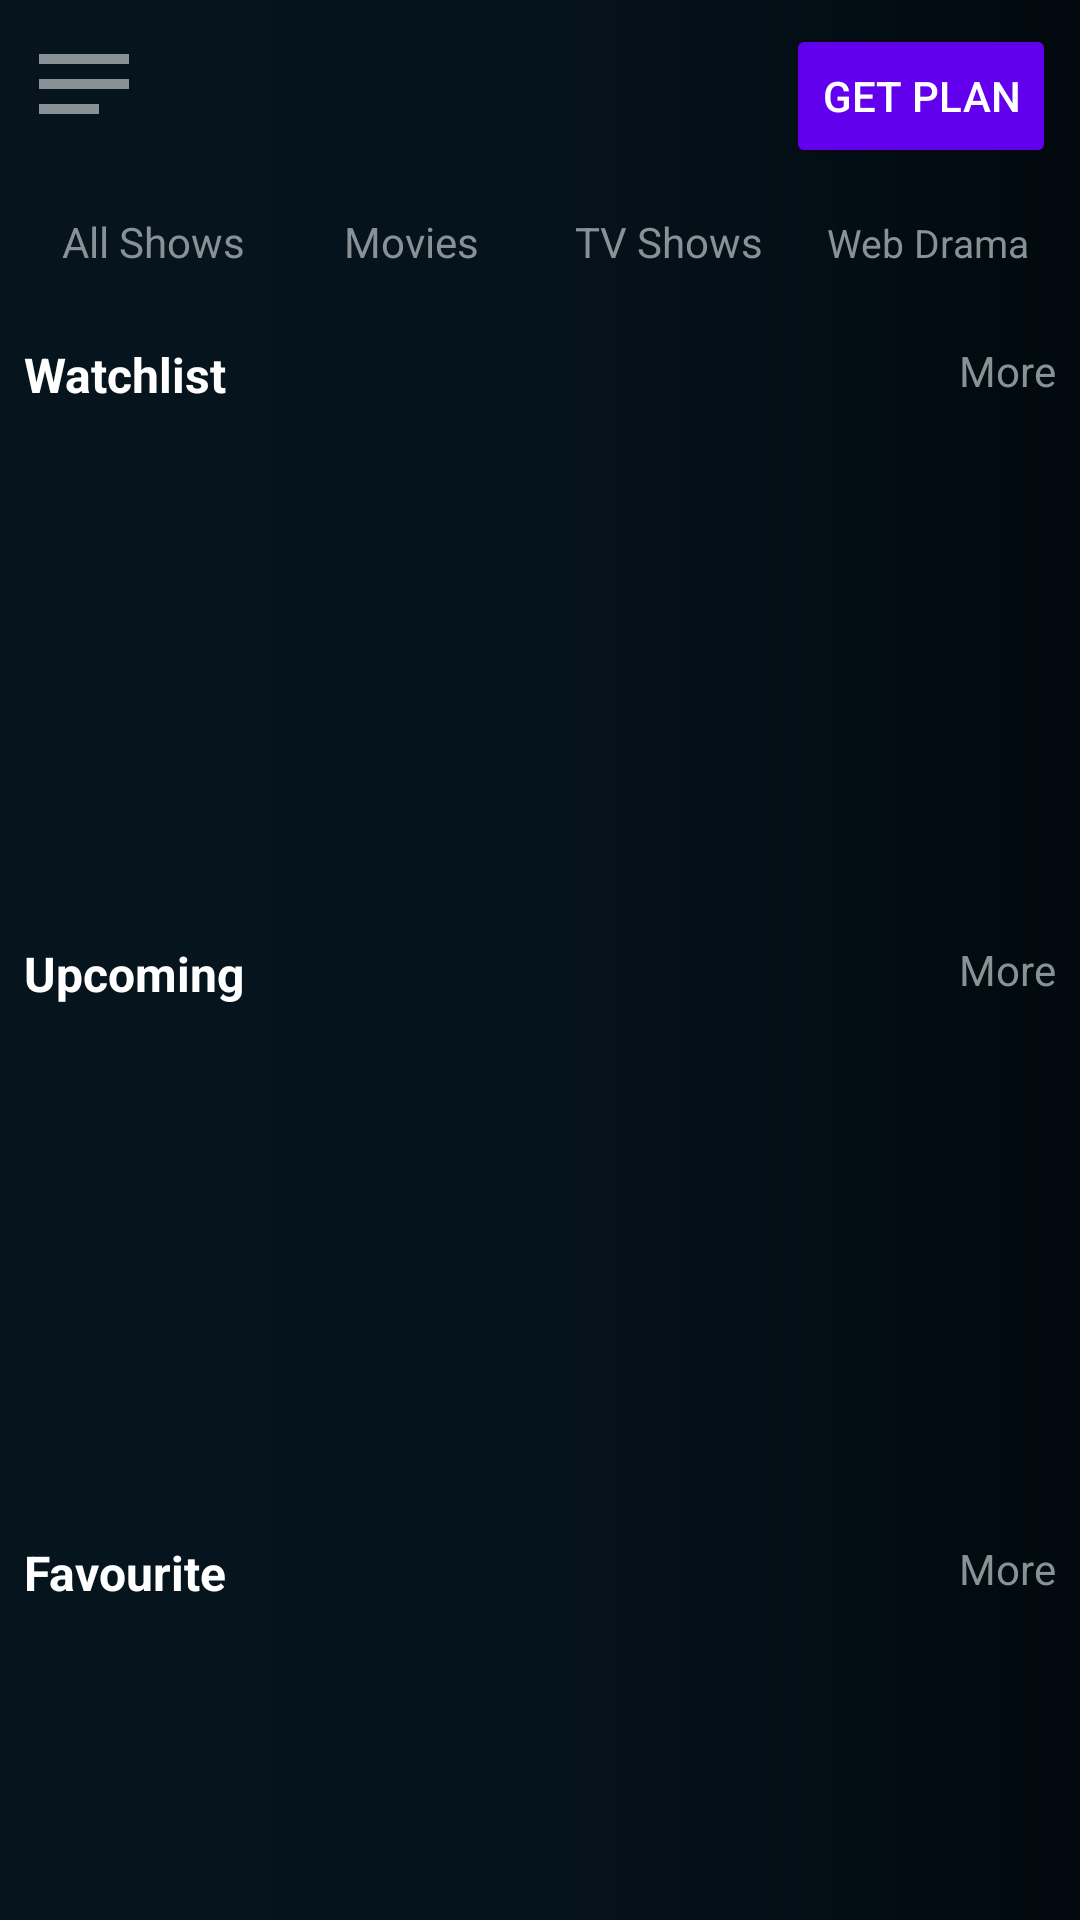

Named icons in this screenshot (1080px×1920px) and their bounding boxes, (x1, y1, x2, y2):
notes: (39, 54, 129, 114)
